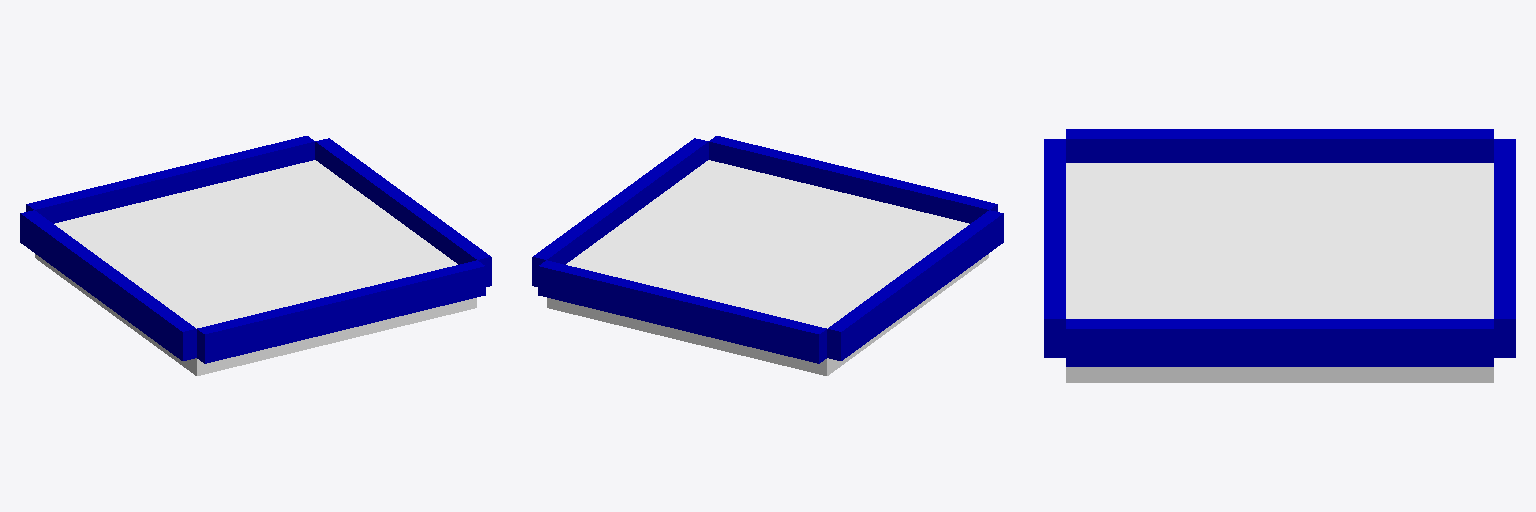
robot.urdf — plane:
<?xml version="1.0" ?>
<robot name="plane">

  <material name="blue">
    <color rgba="0 0 0.8 1"/>
  </material>

  <material name="white">
    <color rgba="1 1 1 1"/>
  </material>


  <link name="baseLink">
    <visual>
      <origin rpy="0 0 0" xyz="0 0 -0.1"/>
      <geometry>
	 	   <box size="2 2 0.2"/>
      </geometry>
      <material name="white"/>

      <collision>
        <origin rpy="0 0 0" xyz="0 0 -0.1"/>
        <geometry>
         <box size="2 2 0.2"/>
        </geometry>
      </collision>
    </visual>



  </link>


  <link name="wall1Link">
    <visual>
      <geometry>
        <box size="2 0.1 0.2"/>
      </geometry>
      <origin rpy="0 0 0" xyz="0 -1.05 0.025"/>
      <material name="blue"/>
    </visual>

    <collision>
      <geometry>
        <box size="2 0.1 0.2"/>
      </geometry>
      <origin rpy="0 0 0" xyz="0 -1.05 0.025"/>
    </collision>
  </link>

  <joint name="base_to_wall1" type="fixed">
    <parent link="baseLink"/>
    <child link="wall1Link"/>
  </joint>


  <link name="wall2Link">
    <visual>
      <geometry>
        <box size="2 0.1 0.2"/>
      </geometry>
      <origin rpy="0 0 0" xyz="0 1.05 0.025"/>
      <material name="blue"/>
    </visual>

    <collision>
      <geometry>
        <box size="2 0.1 0.2"/>
      </geometry>
      <origin rpy="0 0 0" xyz="0 1.05 0.025"/>
    </collision>
  </link>

  <joint name="base_to_wall2" type="fixed">
    <parent link="baseLink"/>
    <child link="wall2Link"/>
  </joint>


  <link name="wall3Link">
    <visual>
      <geometry>
        <box size="0.1 2 0.2"/>
      </geometry>
      <origin rpy="0 0 0" xyz="1.05 0 0.025"/>
      <material name="blue"/>
    </visual>

    <collision>
      <geometry>
        <box size="0.1 2 0.2"/>
      </geometry>
      <origin rpy="0 0 0" xyz="1.05 0 0.025"/>
    </collision>
  </link>

  <joint name="base_to_wall3" type="fixed">
    <parent link="baseLink"/>
    <child link="wall3Link"/>
  </joint>


  <link name="wall4Link">
    <visual>
      <geometry>
        <box size="0.1 2 0.2"/>
      </geometry>
      <origin rpy="0 0 0" xyz="-1.05 0 0.025"/>
      <material name="blue"/>
    </visual>

    <collision>
      <geometry>
        <box size="0.1 2 0.2"/>
      </geometry>
      <origin rpy="0 0 0" xyz="-1.05 0 0.025"/>
    </collision>
  </link>

  <joint name="base_to_wall4" type="fixed">
    <parent link="baseLink"/>
    <child link="wall4Link"/>
  </joint>

</robot>

--- Facts derived from the render (not from the file) ---
3 views of the same robot in one strip: view 1: azimuth 30°, elevation 25°; view 2: azimuth 150°, elevation 25°; view 3: azimuth 270°, elevation 25° (orthographic).
Robot: plane — 5 links, 4 joints (4 fixed); root link baseLink; default pose: every joint at zero.
Visible links, largest first — view 1: baseLink, wall1Link, wall4Link, wall2Link, wall3Link; view 2: baseLink, wall2Link, wall4Link, wall1Link, wall3Link; view 3: baseLink, wall3Link, wall4Link, wall1Link, wall2Link.
Link boxes in pixels (x1,y1,x2,y2): baseLink: (35, 160, 476, 375); wall1Link: (197, 260, 485, 363); wall4Link: (20, 210, 196, 360); wall2Link: (26, 136, 314, 223); wall3Link: (315, 138, 491, 286); baseLink: (547, 160, 988, 375); wall2Link: (538, 260, 826, 363); wall4Link: (827, 210, 1003, 360); wall1Link: (709, 136, 997, 223); wall3Link: (532, 138, 708, 286); baseLink: (1066, 163, 1493, 382); wall3Link: (1066, 319, 1493, 366); wall4Link: (1066, 129, 1493, 162); wall1Link: (1044, 139, 1065, 357); wall2Link: (1494, 139, 1515, 357).
Bounding box of the posed robot: 2.2 × 2.2 × 0.325 m (x, y, z).
Geometry: primitives only (box / cylinder / sphere), no mesh files.